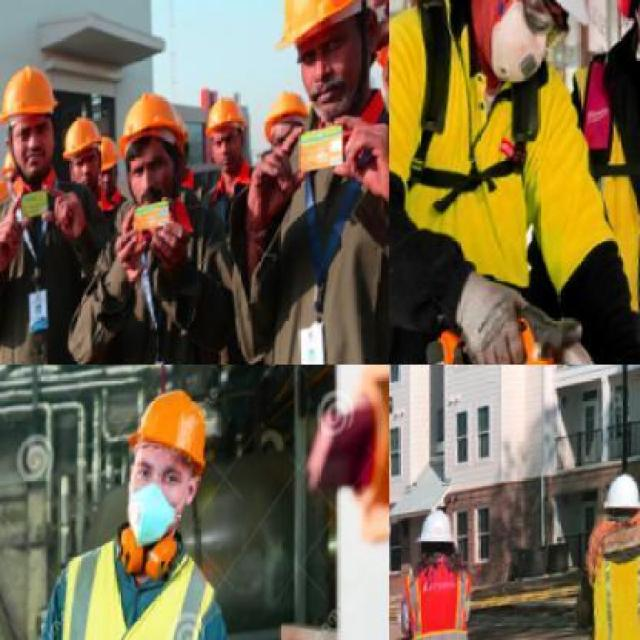Vest: (242, 99, 388, 363), (83, 203, 288, 363), (546, 28, 639, 363), (11, 520, 260, 638), (0, 174, 145, 363), (394, 554, 494, 638), (578, 520, 638, 638)
